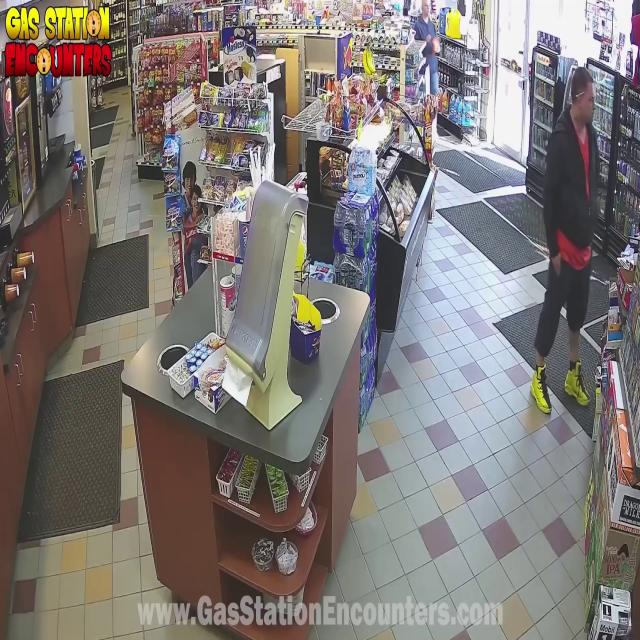normal: (514, 48, 619, 454)
